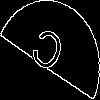C: (25, 25, 67, 82)
